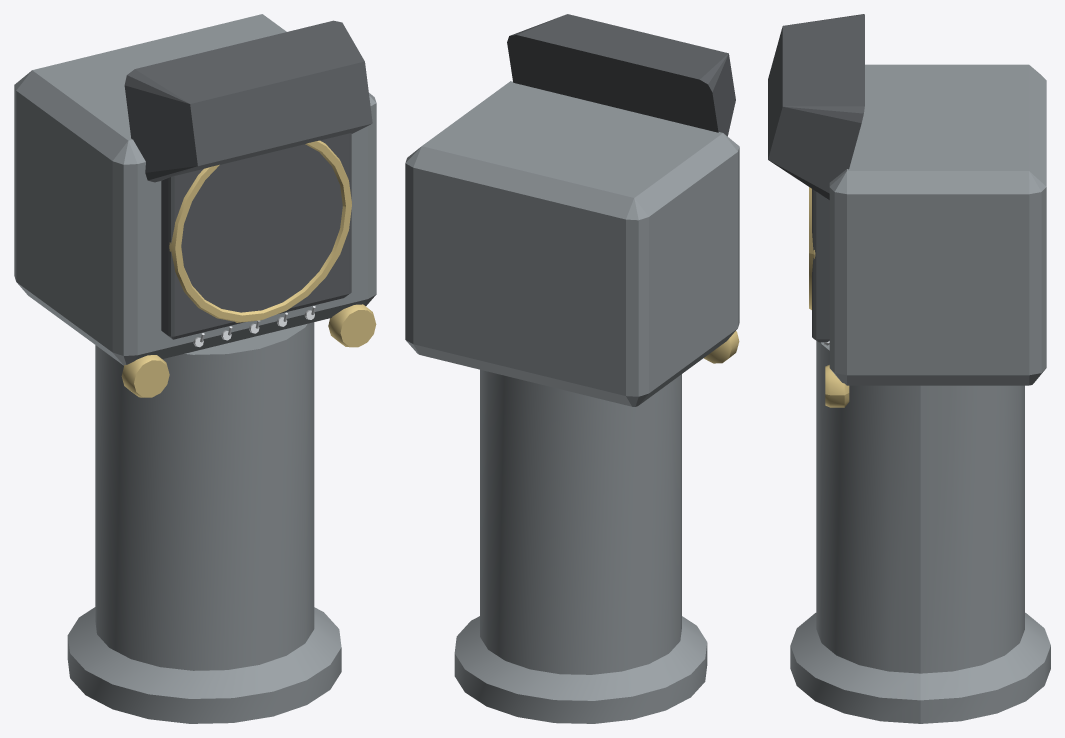
Rendered from submarine-interior-and-control-room-radar-repeater-c6557859__36484.glb.
The picture shows the model from 3 angles, left to right: view 1: azimuth 30°, elevation 25°; view 2: azimuth 150°, elevation 25°; view 3: azimuth 270°, elevation 25°; orthographic projection. The views are drawn at different scales.
Visible parts, largest first — view 1: radar-repeater; view 2: radar-repeater; view 3: radar-repeater.
Boxes of the visible parts, x1,y1,x2,y2 form: radar-repeater: (14,14,376,723); radar-repeater: (405,14,739,723); radar-repeater: (768,14,1050,723).
Bounding box in the file's own units: 0.6599 × 1.55 × 0.6515.
